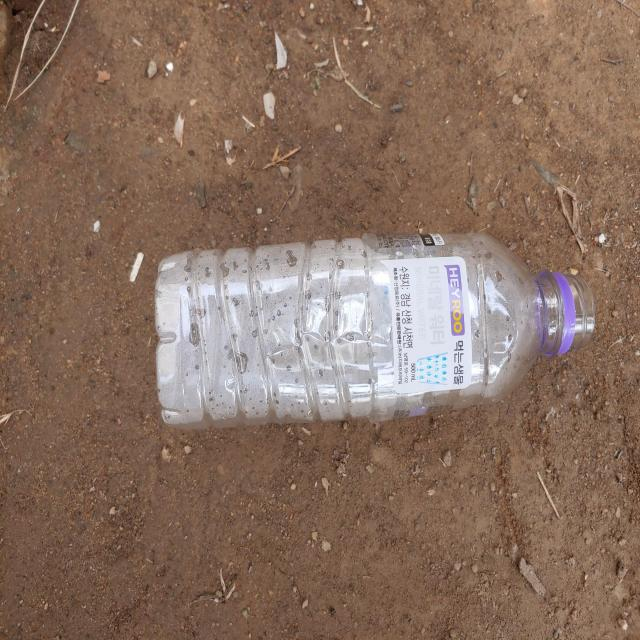plastic: (155, 233, 596, 429)
